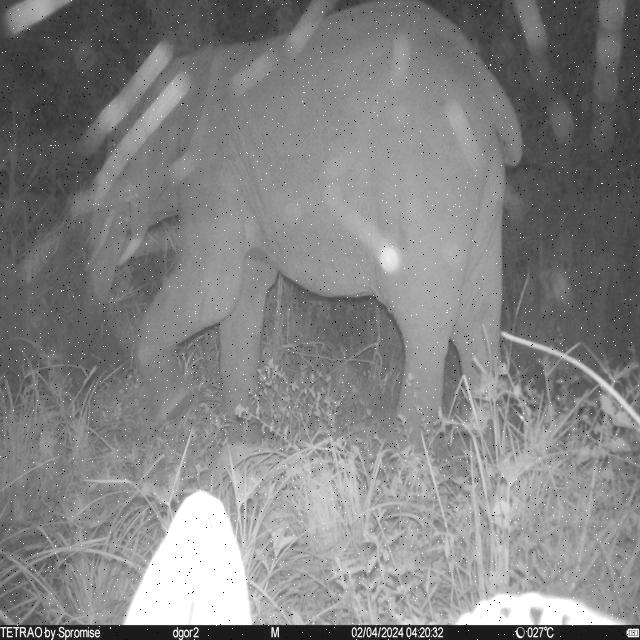ear: (144, 45, 217, 216)
elephant: (76, 0, 526, 435)
tusk: (84, 209, 115, 275), (117, 231, 146, 273)
